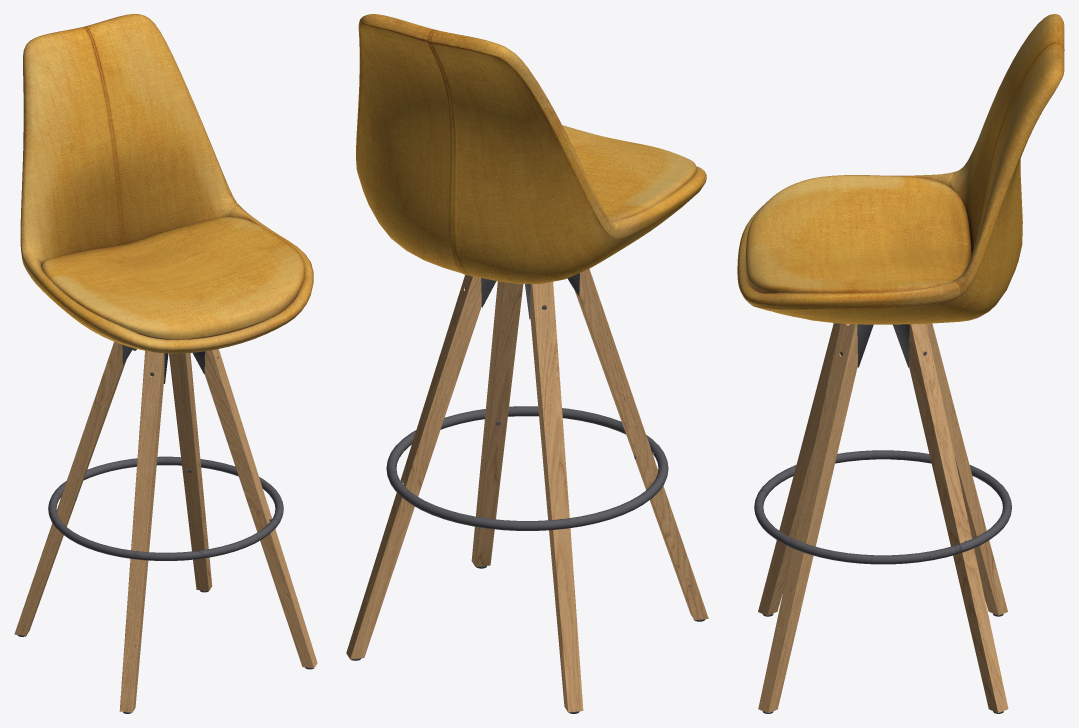
3 views of the same model, side by side, from view 1: azimuth 30°, elevation 25°; view 2: azimuth 150°, elevation 25°; view 3: azimuth 270°, elevation 25° (orthographic). The views are drawn at different scales.
Parts seen in each view (by area): view 1: g (×3); view 2: g (×3); view 3: g (×3).
Boxes of the visible parts, x1,y1,x2,y2 form: g (×3): (14,14,317,713); g (×3): (346,14,708,713); g (×3): (737,14,1064,713).
Bounding box in the file's own units: 0.43 × 1 × 0.4771.
Materials: 3 (3 with a texture image).
